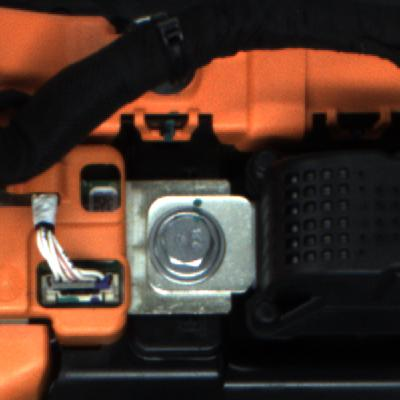nut_b: (146, 199, 223, 286)
